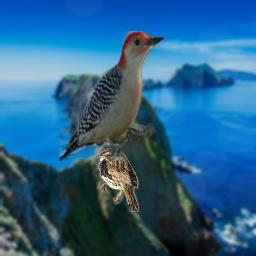Sparrow: (95, 147, 139, 212)
Woodpecker: (59, 31, 166, 161)
